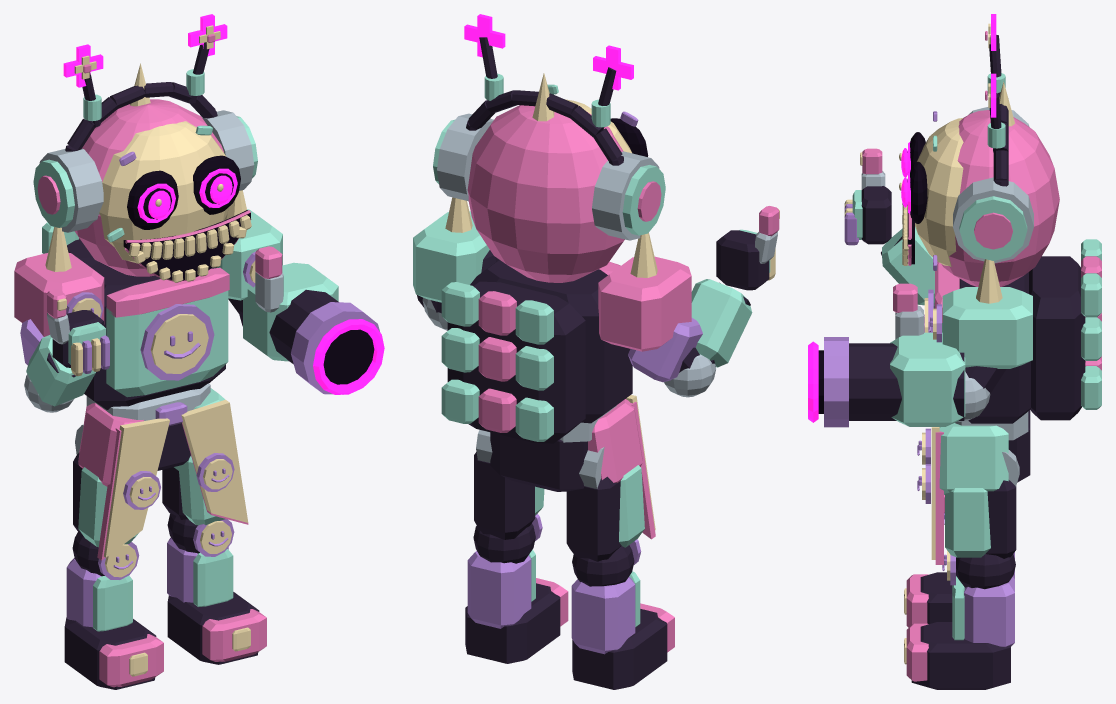
The model's file is smile-shooter.glb.
3 views of the same model, side by side, from view 1: azimuth 30°, elevation 25°; view 2: azimuth 150°, elevation 25°; view 3: azimuth 270°, elevation 25° (orthographic). The views are drawn at different scales.
Parts seen in each view (by area): view 1: Face_Cream_Mask.001, Chest_Pastel_Plate.001, Helmet_Pastel_Shell.001, Shooter_Tabard_-1, Shooter_Tabard_1, Shoulder_-1_Pauldron.001, Chest_Pink_Yoke.001, Cannon_Mint_Housing, Boot_-1_Heavy.001, Boot_1_Heavy.001, Torso_Undersuit.001, Cannon_Lavender_Muzzle (+41 smaller); view 2: Helmet_Pastel_Shell.001, Shooter_Backpack, Shoulder_-1_Pauldron.001, Torso_Undersuit.001, Shoulder_1_Pauldron.001, Boot_-1_Heavy.001, Pelvis.001, Boot_1_Heavy.001, Shin_-1_Armor.001, Shin_1_Armor.001, Thigh_-1_Undersuit.001, Right_Forearm_Armor.001 (+30 smaller); view 3: Helmet_Pastel_Shell.001, Shooter_Backpack, Shoulder_1_Pauldron.001, Cannon_Mint_Housing, Boot_1_Heavy.001, Face_Cream_Mask.001, Hip_Plate_1.001, Cannon_Main_Barrel, Thigh_1_Armor.001, Shin_1_Armor.001, Torso_Undersuit.001, Headphone_1_Enamel.001 (+28 smaller).
Part boxes in pixels (x1,y1,x2,y2): Face_Cream_Mask.001: (99, 121, 228, 263); Chest_Pastel_Plate.001: (106, 290, 228, 397); Helmet_Pastel_Shell.001: (75, 99, 223, 276); Shooter_Tabard_-1: (104, 418, 169, 557); Shooter_Tabard_1: (181, 399, 248, 522); Shoulder_-1_Pauldron.001: (14, 252, 104, 336); Chest_Pink_Yoke.001: (106, 267, 229, 317); Cannon_Mint_Housing: (243, 262, 338, 361); Boot_-1_Heavy.001: (64, 617, 156, 689); Boot_1_Heavy.001: (167, 592, 259, 664); Torso_Undersuit.001: (84, 261, 225, 409); Cannon_Lavender_Muzzle: (291, 302, 379, 394); Helmet_Pastel_Shell.001: (467, 105, 624, 282); Shooter_Backpack: (447, 281, 585, 443); Shoulder_-1_Pauldron.001: (598, 256, 691, 351); Torso_Undersuit.001: (470, 260, 632, 423); Shoulder_1_Pauldron.001: (413, 211, 489, 302); Boot_-1_Heavy.001: (572, 609, 667, 689); Pelvis.001: (490, 432, 587, 491); Boot_1_Heavy.001: (465, 583, 560, 663); Shin_-1_Armor.001: (571, 576, 635, 654); Shin_1_Armor.001: (467, 551, 531, 628); Thigh_-1_Undersuit.001: (566, 476, 621, 561); Right_Forearm_Armor.001: (691, 279, 752, 367); Helmet_Pastel_Shell.001: (941, 110, 1059, 286); Shooter_Backpack: (1029, 256, 1085, 420); Shoulder_1_Pauldron.001: (942, 287, 1032, 368); Cannon_Mint_Housing: (890, 332, 965, 426); Boot_1_Heavy.001: (911, 622, 1010, 689); Face_Cream_Mask.001: (915, 118, 963, 266); Hip_Plate_1.001: (939, 423, 1008, 494); Cannon_Main_Barrel: (849, 343, 964, 420); Thigh_1_Armor.001: (945, 488, 990, 557); Shin_1_Armor.001: (964, 577, 1014, 647); Torso_Undersuit.001: (959, 272, 1030, 423); Headphone_1_Enamel.001: (959, 196, 1027, 260).
Bounding box in the file's own units: 1.17 × 2.23 × 0.9778.
